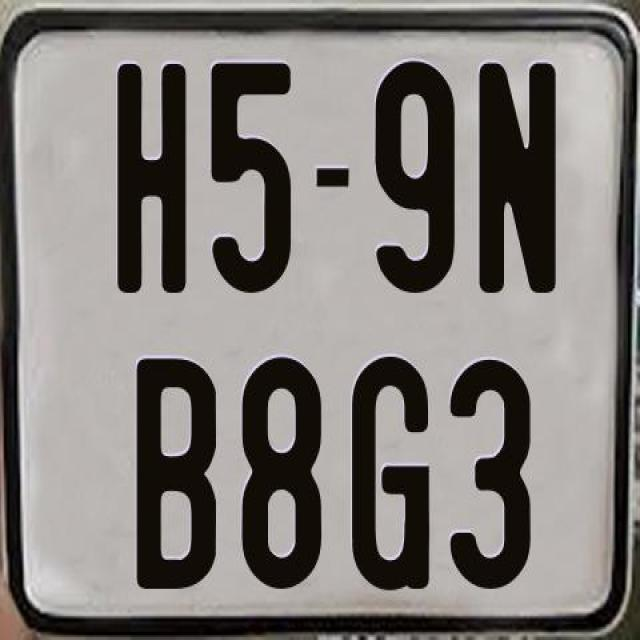3: (447, 357, 533, 595)
5: (209, 59, 291, 293)
8: (239, 352, 321, 590)
9: (372, 56, 452, 291)
B: (136, 357, 218, 592)
G: (351, 354, 435, 594)
H: (118, 63, 190, 295)
N: (477, 61, 555, 293)
